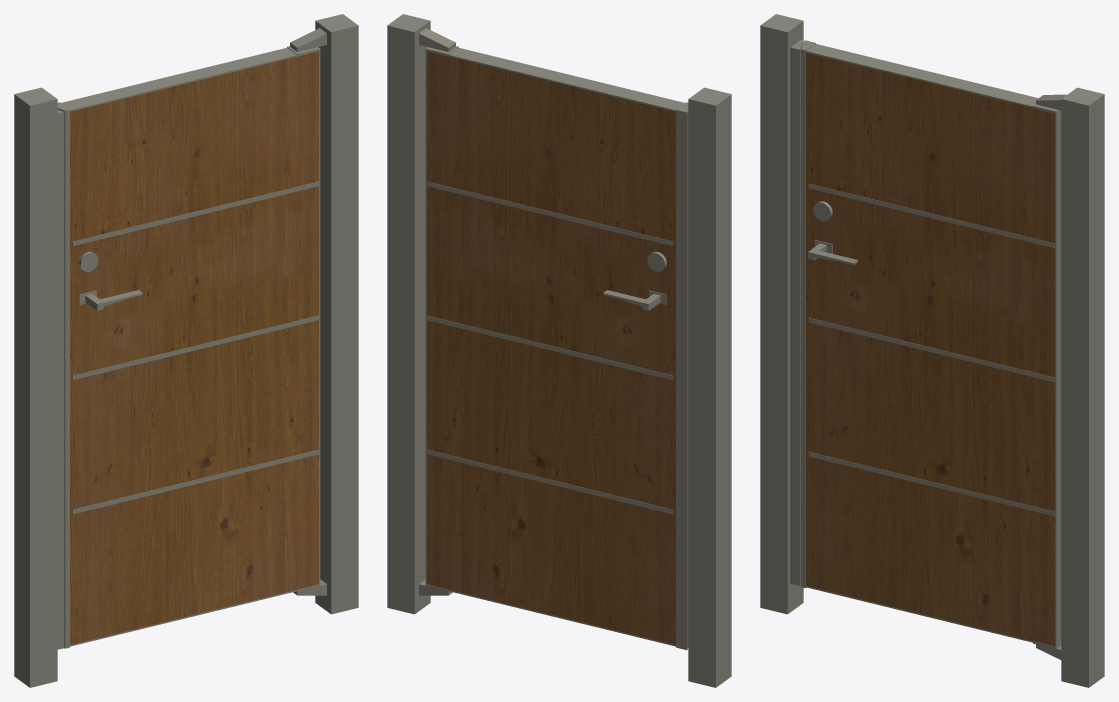
The model's file is abmonpi-line_h1400-w700_naturalpine.fbx.
The picture shows the model from 3 angles, left to right: view 1: azimuth 30°, elevation 25°; view 2: azimuth 150°, elevation 25°; view 3: azimuth 330°, elevation 25°; orthographic projection.
Visible parts, largest first — view 1: abmonpi-line_h1400-w700_rustycopper.003; view 2: abmonpi-line_h1400-w700_rustycopper.003; view 3: abmonpi-line_h1400-w700_rustycopper.003.
Boxes of the visible parts, bbox=[...] form: abmonpi-line_h1400-w700_rustycopper.003: bbox=[14, 14, 358, 687]; abmonpi-line_h1400-w700_rustycopper.003: bbox=[387, 14, 731, 687]; abmonpi-line_h1400-w700_rustycopper.003: bbox=[760, 14, 1104, 687].
Size of the model in its own units: 89.8 by 152 by 16.7.
Materials: 2 (2 with a texture image).
